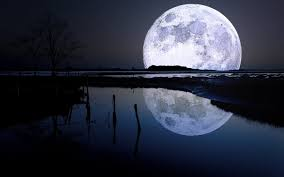moon: (143, 3, 242, 69)
